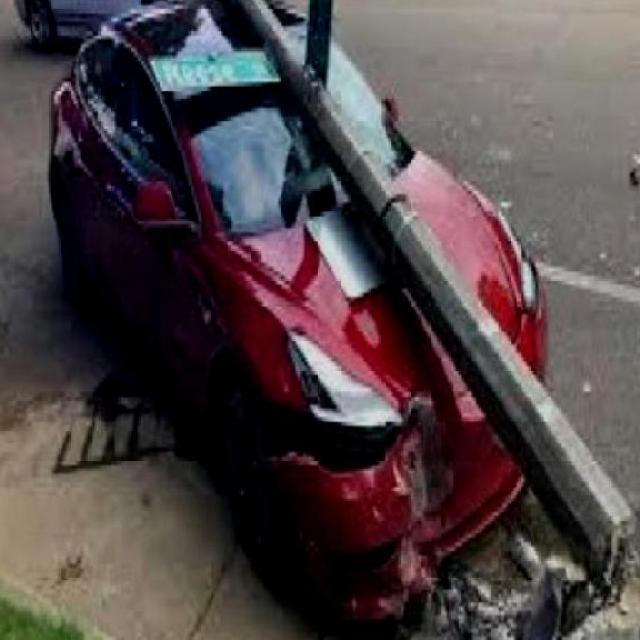accident: (35, 0, 557, 612)
